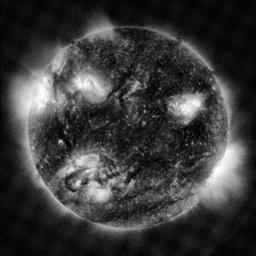solar flares: (167, 93, 203, 123), (74, 75, 104, 100), (67, 151, 95, 173), (87, 182, 111, 206), (39, 86, 50, 114)
sunspots: (182, 123, 214, 145), (134, 159, 167, 177), (163, 61, 187, 81), (48, 122, 70, 142), (119, 27, 145, 43), (94, 108, 117, 124), (145, 78, 158, 100), (196, 78, 210, 96)
